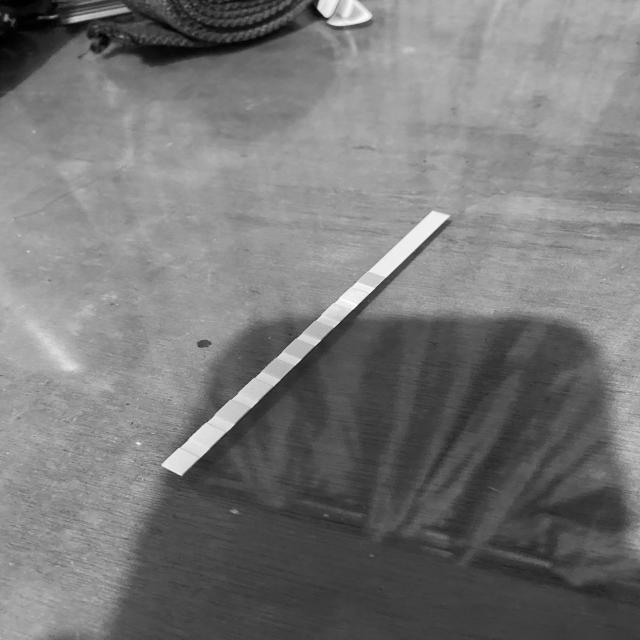Bilirubin: (346, 291, 362, 301)
Blood: (290, 343, 306, 354)
Glucose: (363, 276, 379, 284)
Ketone: (328, 307, 344, 317)
Leukocytes: (171, 455, 188, 468)
Nitrite: (199, 429, 216, 442)
Protein: (247, 384, 263, 396)
SpGravity: (310, 324, 326, 336)
Urobilinogen: (223, 406, 240, 418)
background: (0, 0, 640, 640)
pH: (270, 363, 286, 374)
strip: (162, 211, 450, 476)
